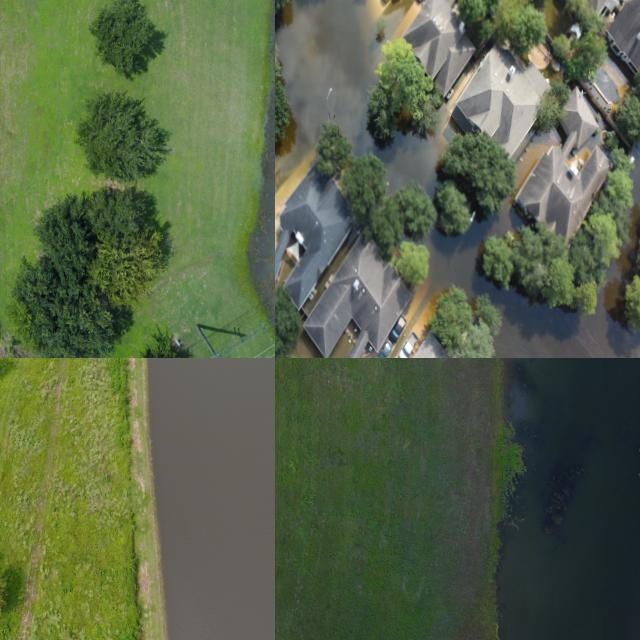fire: (498, 358, 640, 640), (275, 0, 463, 194), (148, 358, 275, 640), (419, 199, 640, 358), (275, 0, 382, 145), (361, 132, 447, 196), (619, 146, 640, 282)
